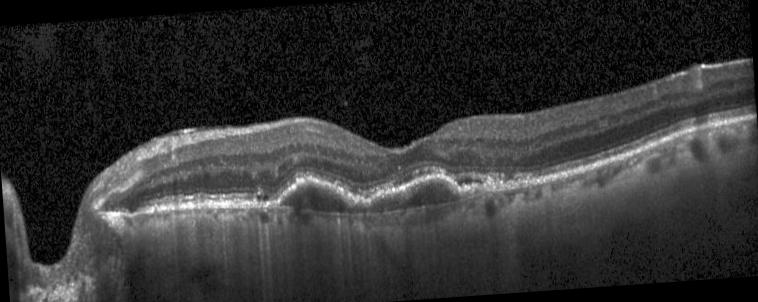subretinal_fluid: (282, 185, 345, 213), (407, 183, 452, 207), (349, 196, 402, 213)
